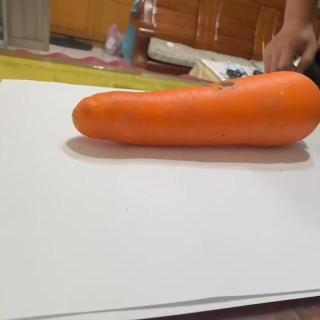carrot: (69, 69, 320, 148)
